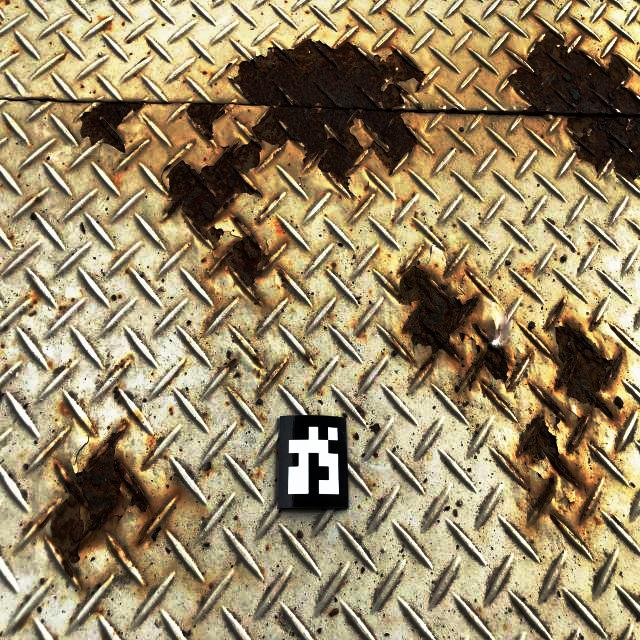Corrosion: (167, 39, 423, 242), (511, 29, 640, 179), (50, 421, 149, 582), (401, 266, 478, 358), (556, 323, 623, 418), (517, 415, 581, 488), (81, 102, 143, 152), (220, 236, 266, 285), (187, 101, 234, 147), (528, 380, 567, 422), (529, 478, 556, 525), (456, 353, 485, 392), (232, 214, 263, 250), (568, 412, 593, 453), (544, 295, 569, 331), (485, 345, 509, 382), (138, 518, 157, 546), (392, 336, 412, 360), (420, 354, 439, 375), (265, 363, 284, 384), (473, 323, 492, 343), (227, 358, 237, 373), (305, 350, 311, 362), (253, 354, 261, 362), (417, 104, 424, 112)
